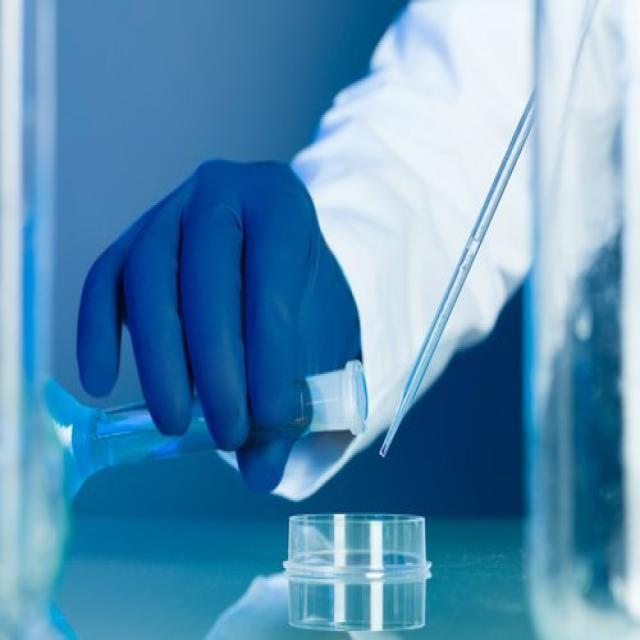gloves: (75, 156, 365, 494)
